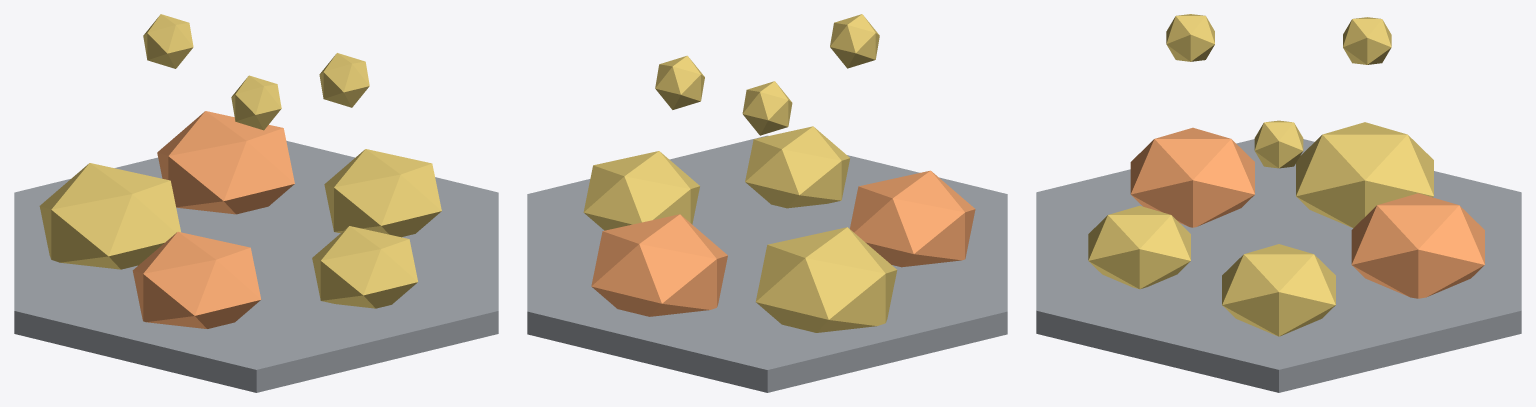
The model's file is animprop_campfire_ember_00.glb.
The picture shows the model from 3 angles, left to right: view 1: azimuth 30°, elevation 25°; view 2: azimuth 150°, elevation 25°; view 3: azimuth 270°, elevation 25°; orthographic projection.
Parts seen in each view (by area): view 1: animprop; view 2: animprop; view 3: animprop.
Part boxes in pixels (x1=…): animprop: x1=14, y1=14, x2=498, y2=392; animprop: x1=527, y1=14, x2=1007, y2=392; animprop: x1=1036, y1=14, x2=1521, y2=392.
Size of the model in its own units: 0.88 by 0.411 by 0.7621.
